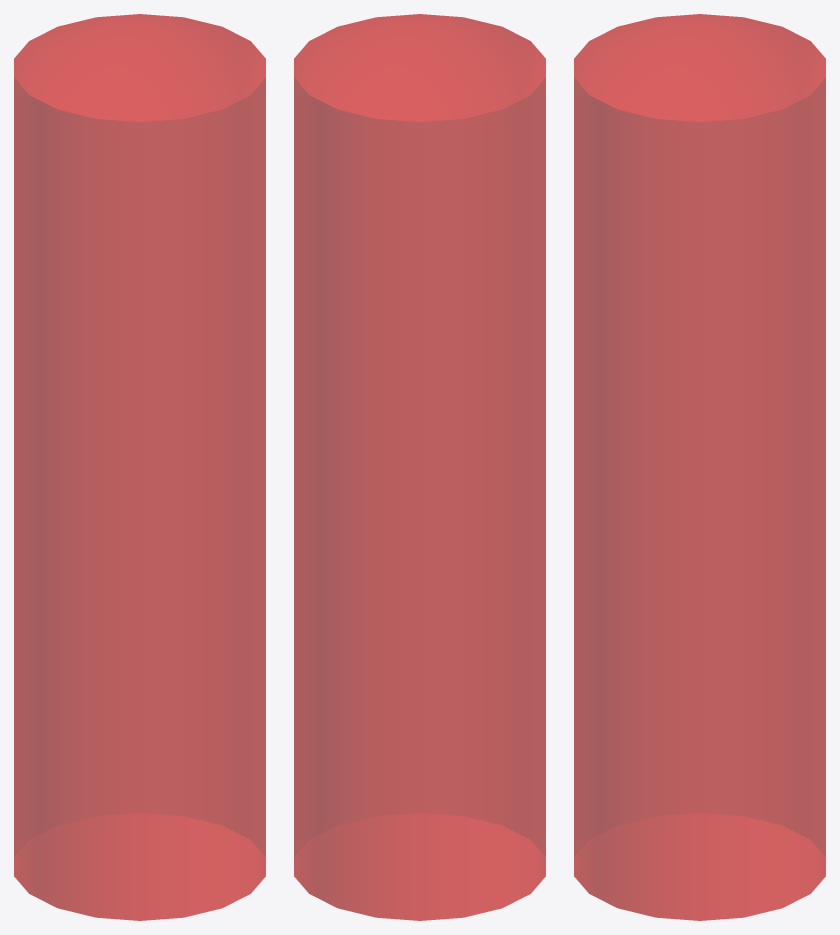
Rendered from B_Button.FBX.
The picture shows the model from 3 angles, left to right: view 1: azimuth 30°, elevation 25°; view 2: azimuth 150°, elevation 25°; view 3: azimuth 270°, elevation 25°; orthographic projection.
Visible parts, largest first — view 1: Cylinder001; view 2: Cylinder001; view 3: Cylinder001.
Boxes of the visible parts, bbox=[...] form: Cylinder001: bbox=[14, 14, 265, 920]; Cylinder001: bbox=[294, 14, 545, 920]; Cylinder001: bbox=[574, 14, 825, 920].
Size of the model in its own units: 5.38 by 19.48 by 5.29.
